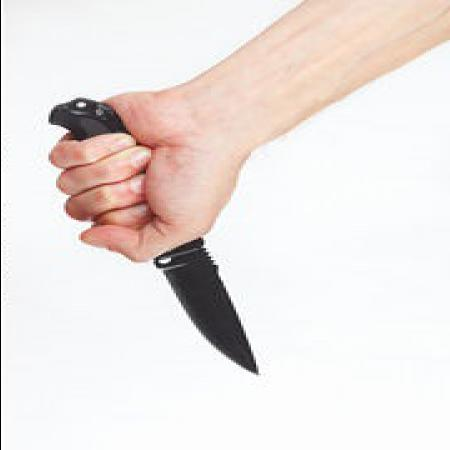long weapon: (78, 155, 273, 380)
